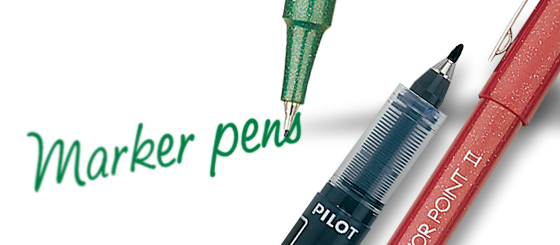Nonrec_Other: (279, 36, 480, 245)
